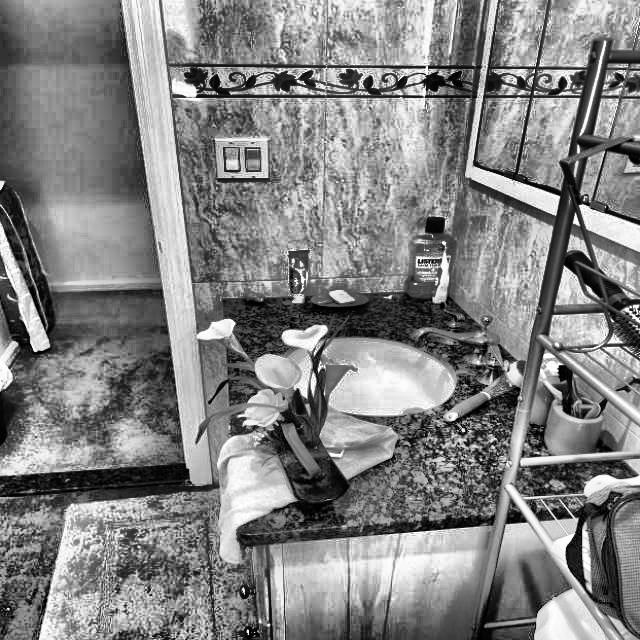plants: (176, 312, 360, 519)
